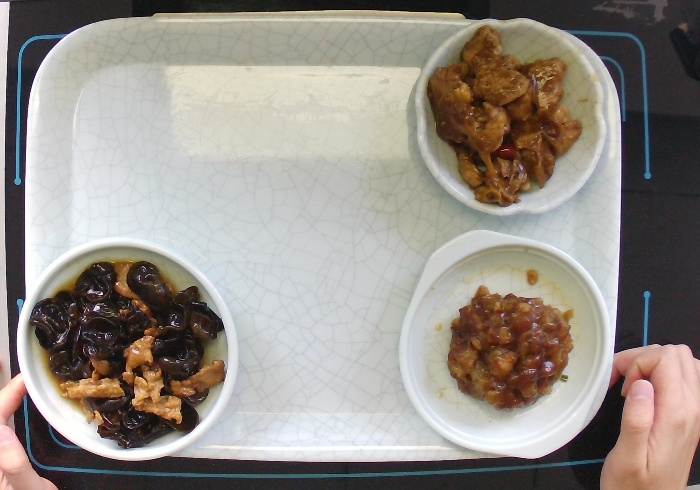JYsf-Ao_Yuan_Wan: (410, 13, 610, 219)
JYsf-Shuang_Er_Pan: (394, 224, 616, 462)
JYsf-Xiao_Yuan_Pan: (14, 233, 243, 464)
